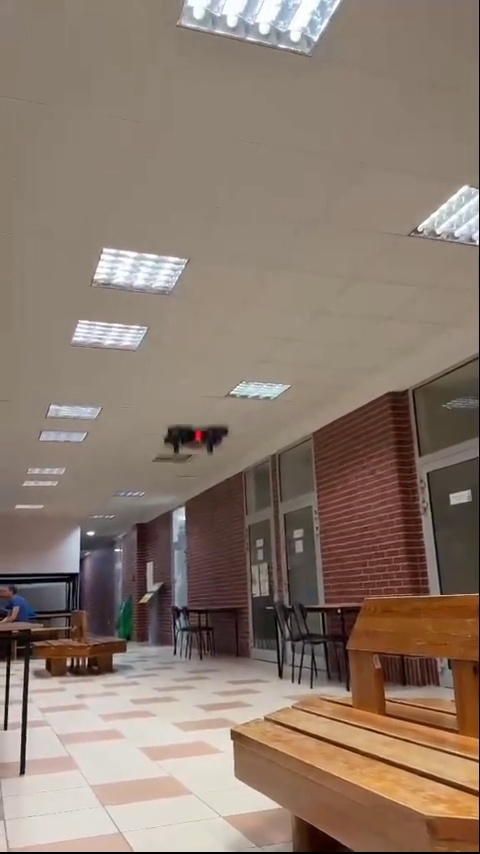drone: (162, 424, 226, 459)
no vest: (0, 579, 41, 639)
